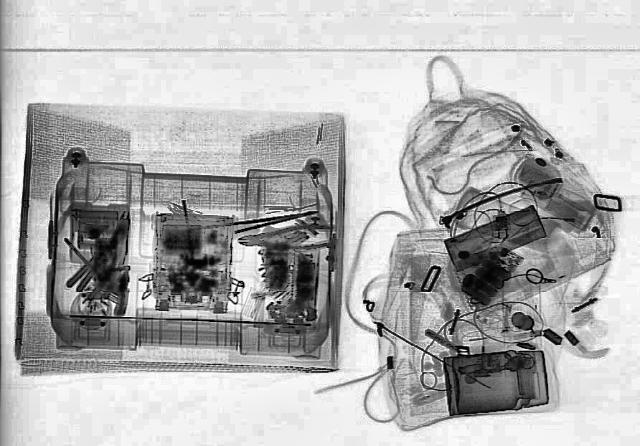Pliers: (233, 221, 334, 255)
